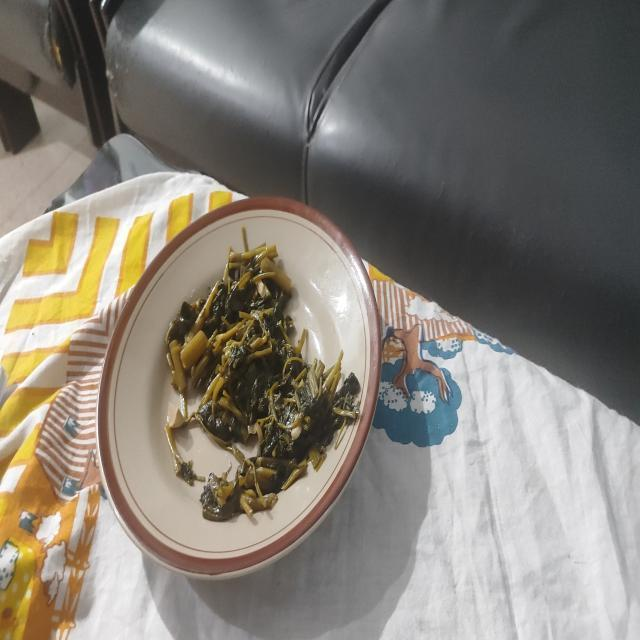tumis_kangkung: (166, 246, 360, 520)
